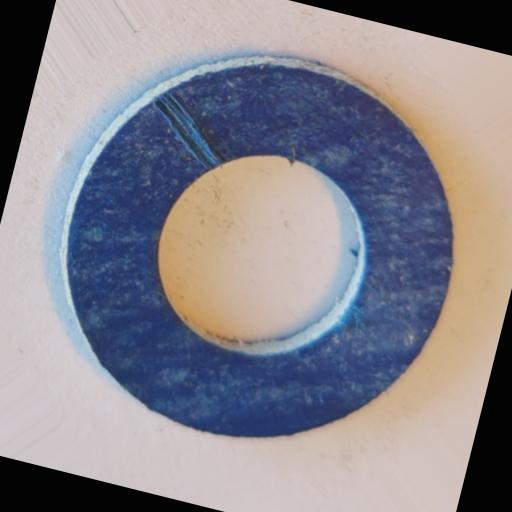defect: (141, 88, 240, 172)
